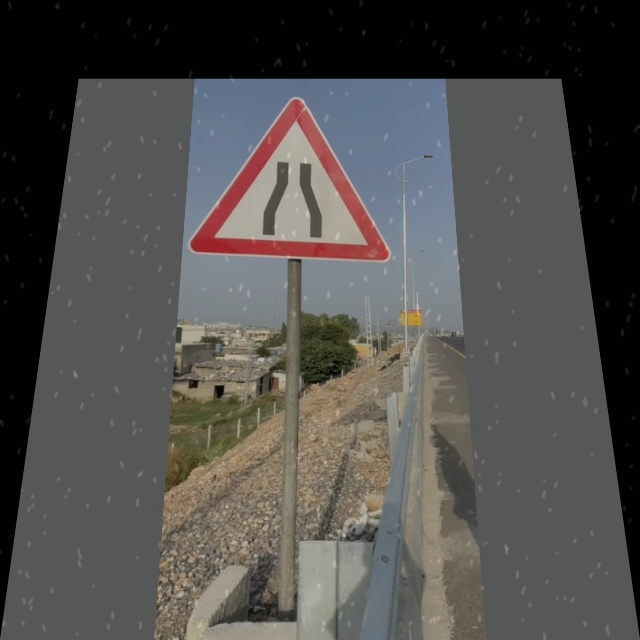Narrow_Road_Ahead: (201, 97, 390, 262)
